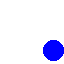circle: (43, 40, 63, 60)
